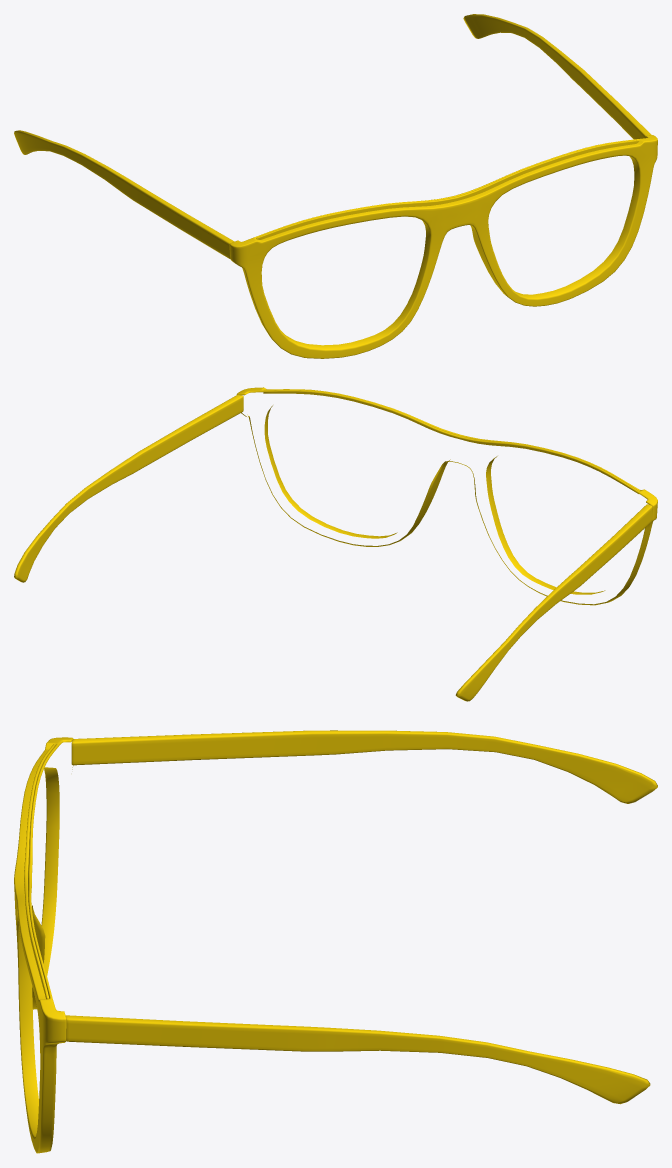
3 views of the same model, one above another, from view 1: azimuth 30°, elevation 25°; view 2: azimuth 150°, elevation 25°; view 3: azimuth 270°, elevation 25° (orthographic). The views are drawn at different scales.
Parts seen in each view (by area): view 1: am_body; view 2: am_body; view 3: am_body.
Boxes of the visible parts, x1=… form: am_body: x1=14, y1=14, x2=657, y2=358; am_body: x1=14, y1=387, x2=657, y2=701; am_body: x1=14, y1=730, x2=657, y2=1153.
Bounding box in the file's own units: 0.1631 × 0.0505 × 0.1385.
